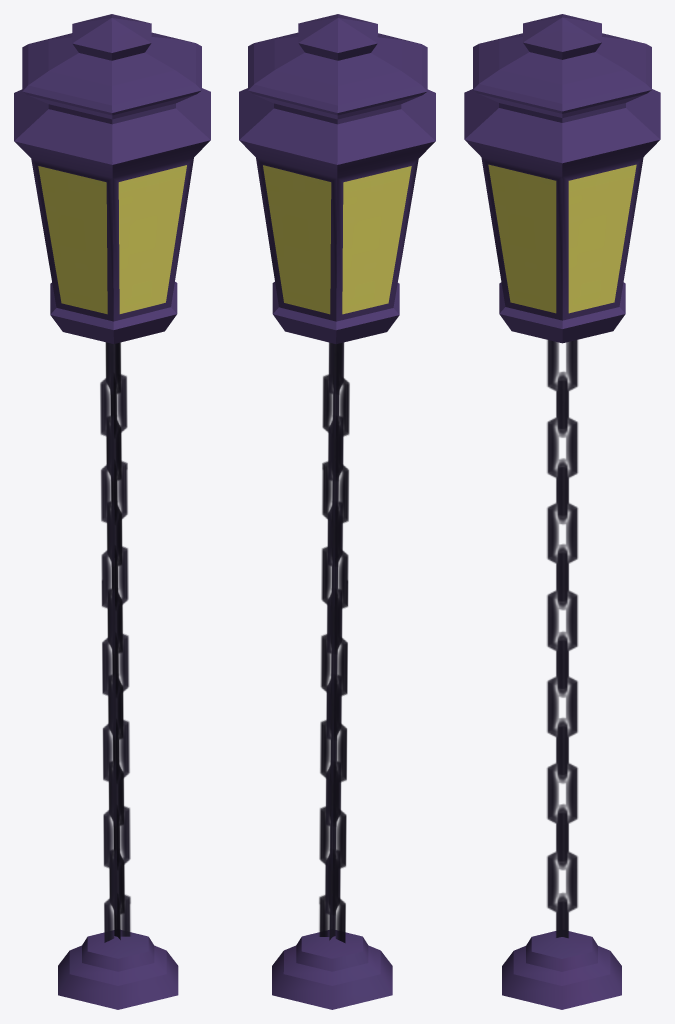
Rendered from pm-lamp-01.glb.
The picture shows the model from 3 angles, left to right: view 1: azimuth 30°, elevation 25°; view 2: azimuth 150°, elevation 25°; view 3: azimuth 270°, elevation 25°; orthographic projection.
Visible parts, largest first — view 1: Lamp01; view 2: Lamp01; view 3: Lamp01.
Part boxes in pixels (box(x1,y1,x2,y2)): Lamp01: box(14, 14, 210, 1009); Lamp01: box(239, 14, 435, 1009); Lamp01: box(464, 14, 660, 1009).
Bounding box in the file's own units: 0.7386 × 3.46 × 0.6395.
2 materials, 2 textured.
